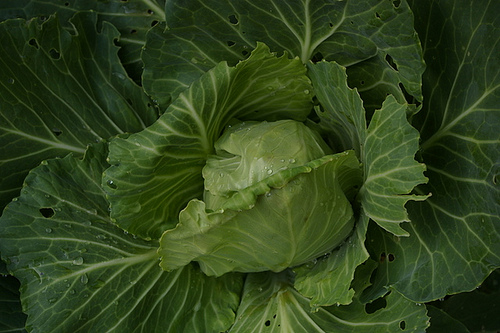cabbage: (0, 1, 499, 332)
